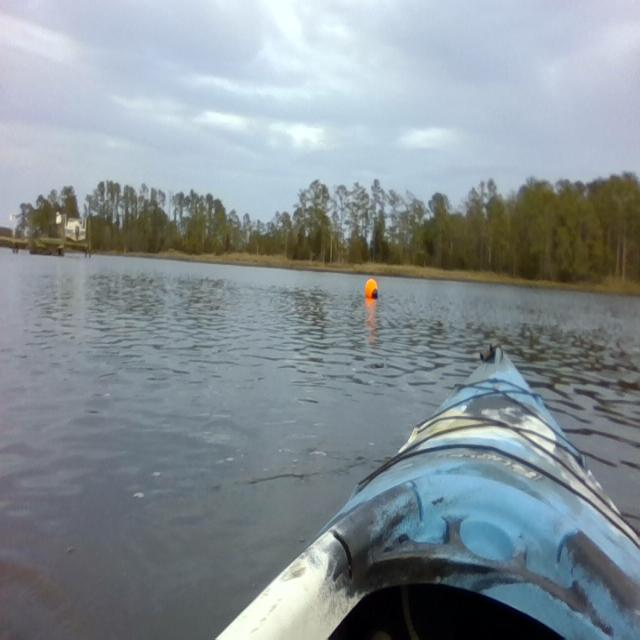Buoy: (363, 276, 380, 302)
